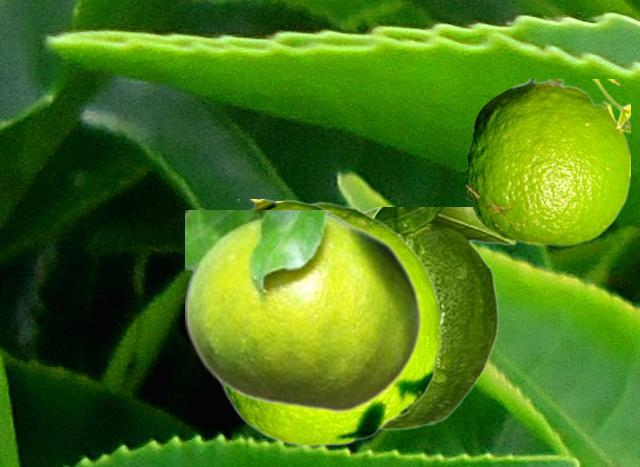dalandan: (216, 201, 441, 446), (185, 210, 422, 413), (361, 207, 516, 429), (466, 79, 629, 245), (236, 199, 348, 402)
